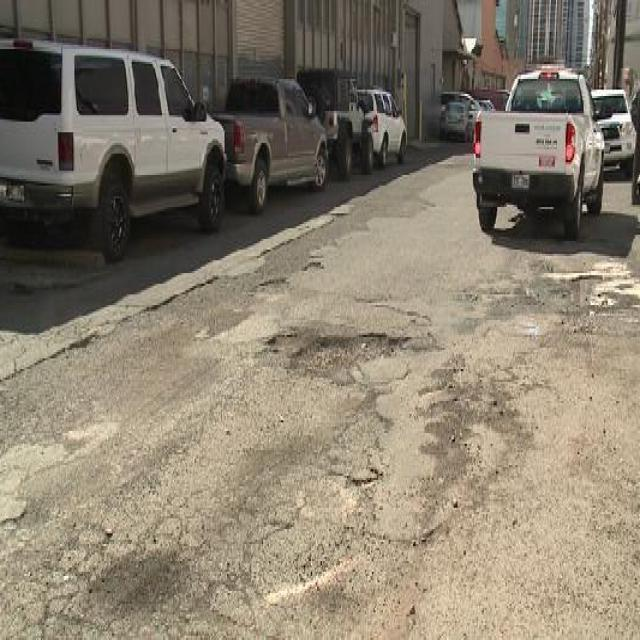buraco: (291, 327, 435, 380), (292, 324, 409, 371), (263, 326, 297, 358), (556, 270, 605, 291), (264, 326, 303, 352), (566, 264, 608, 286), (258, 270, 286, 298), (261, 277, 284, 294)
